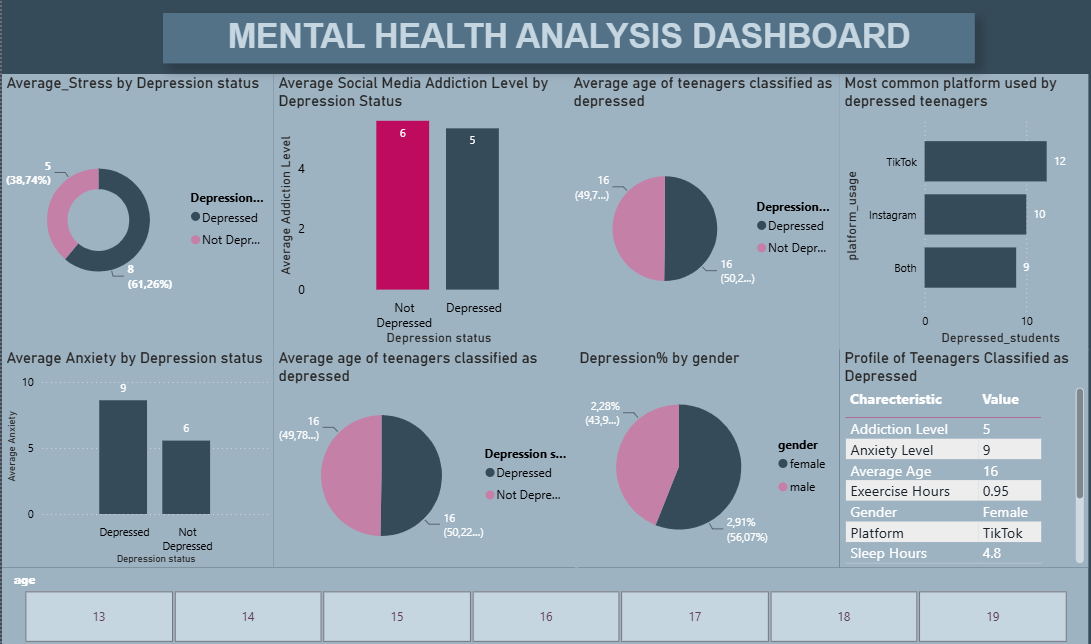

This screenshot's page, from the dashboard's own definition file:
{"tool":"powerbi","page":{"name":"Mental Health Analysis","canvas":[1280,720],"ordinal":2},"visuals":[{"type":"donutChart","fields":{"Y":["Teen_Mental_Health_Dataset.Average_Stress"],"Category":["Teen_Mental_Health_Dataset.Depression status"]},"box":[0,82.2,302.2,305.6],"z":0},{"type":"clusteredColumnChart","fields":{"Y":["Teen_Mental_Health_Dataset.Average Anxiety"],"Category":["Teen_Mental_Health_Dataset.Depression status"]},"box":[0,387.8,302.2,243.3],"z":1000},{"type":"clusteredColumnChart","title":"Average Social Media Addiction Level by Depression Status","fields":{"Category":["Teen_Mental_Health_Dataset.Depression status"],"Y":["Teen_Mental_Health_Dataset.Average Addiction Level"]},"box":[302.2,82.2,327.8,305.6],"z":2000},{"type":"pieChart","fields":{"Category":["Teen_Mental_Health_Dataset.gender"],"Y":["Teen_Mental_Health_Dataset.Depression%"]},"box":[636.7,387.8,294.4,243.3],"z":3001},{"type":"pieChart","title":"Average age of teenagers classified as depressed","fields":{"Y":["Teen_Mental_Health_Dataset.Average age"],"Category":["Teen_Mental_Health_Dataset.Depression status"]},"box":[630,82.2,301.1,305.6],"z":3002},{"type":"pieChart","title":"Average age of teenagers classified as depressed","fields":{"Y":["Teen_Mental_Health_Dataset.Average age"],"Category":["Teen_Mental_Health_Dataset.Depression status"]},"box":[302.2,387.8,337.8,243.3],"z":3003},{"type":"tableEx","title":"Profile of Teenagers Classified as Depressed","fields":{"Values":["Depressed Teen Profile.Charecteristic","Depressed Teen Profile.Value"]},"box":[931.1,387.8,275.6,243.3],"z":3004},{"type":"slicer","fields":{"Values":["Teen_Mental_Health_Dataset.age"]},"box":[0,631.1,1206.7,88.9],"z":3005},{"type":"barChart","title":"Most common platform used by depressed teenagers","fields":{"Y":["Teen_Mental_Health_Dataset.Depressed_students"],"Category":["Teen_Mental_Health_Dataset.platform_usage"]},"box":[931.1,82.2,275.6,305.6],"z":3006},{"type":"textbox","box":[178.9,14.4,902.2,55.6],"z":3007}]}

Visuals, with their boxes on the page's 1280x720 design canvas (x1, y1, x2, y2). These are canvas units, not pixel positions in the 1091x644 screenshot, which may show the page scaled, cropped or inside an application window:
donutChart - Teen_Mental_Health_Dataset.Average_Stress x Teen_Mental_Health_Dataset.Depression status: x1=0 y1=82 x2=302 y2=388
clusteredColumnChart - Teen_Mental_Health_Dataset.Average Anxiety x Teen_Mental_Health_Dataset.Depression status: x1=0 y1=388 x2=302 y2=631
"Average Social Media Addiction Level by Depression Status" clusteredColumnChart: x1=302 y1=82 x2=630 y2=388
pieChart - Teen_Mental_Health_Dataset.gender x Teen_Mental_Health_Dataset.Depression%: x1=637 y1=388 x2=931 y2=631
"Average age of teenagers classified as depressed" pieChart: x1=630 y1=82 x2=931 y2=388
"Average age of teenagers classified as depressed" pieChart: x1=302 y1=388 x2=640 y2=631
"Profile of Teenagers Classified as Depressed" tableEx: x1=931 y1=388 x2=1207 y2=631
slicer - Teen_Mental_Health_Dataset.age: x1=0 y1=631 x2=1207 y2=720
"Most common platform used by depressed teenagers" barChart: x1=931 y1=82 x2=1207 y2=388
textbox: x1=179 y1=14 x2=1081 y2=70
